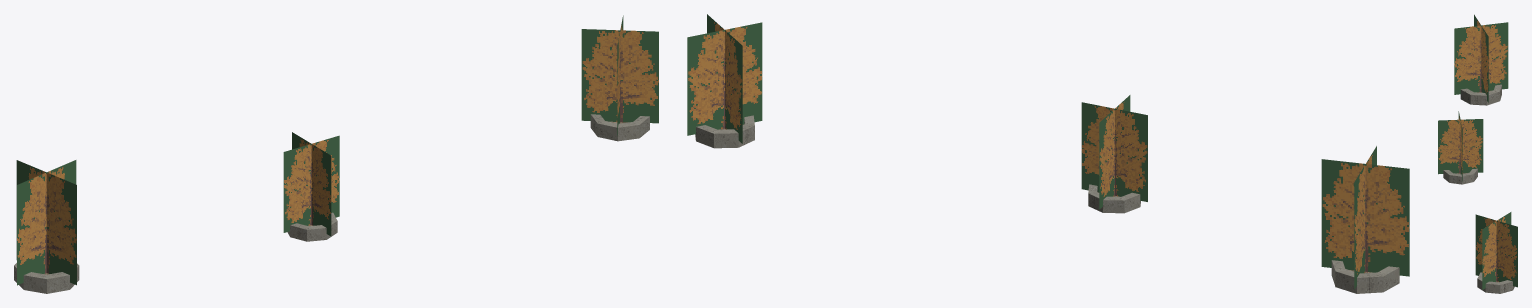
File: procgen-procpain-tree-park-large-x1z2.obj
3 renders of one model, left to right at view 1: azimuth 30°, elevation 25°; view 2: azimuth 150°, elevation 25°; view 3: azimuth 270°, elevation 25°, orthographic. The views are drawn at different scales.
Bounding box in the file's own units: 49.06 × 7.8 × 7.91.
